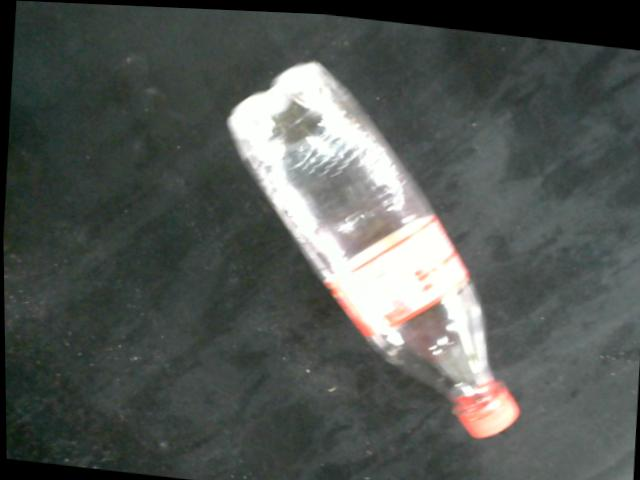bottle: (225, 57, 520, 435)
